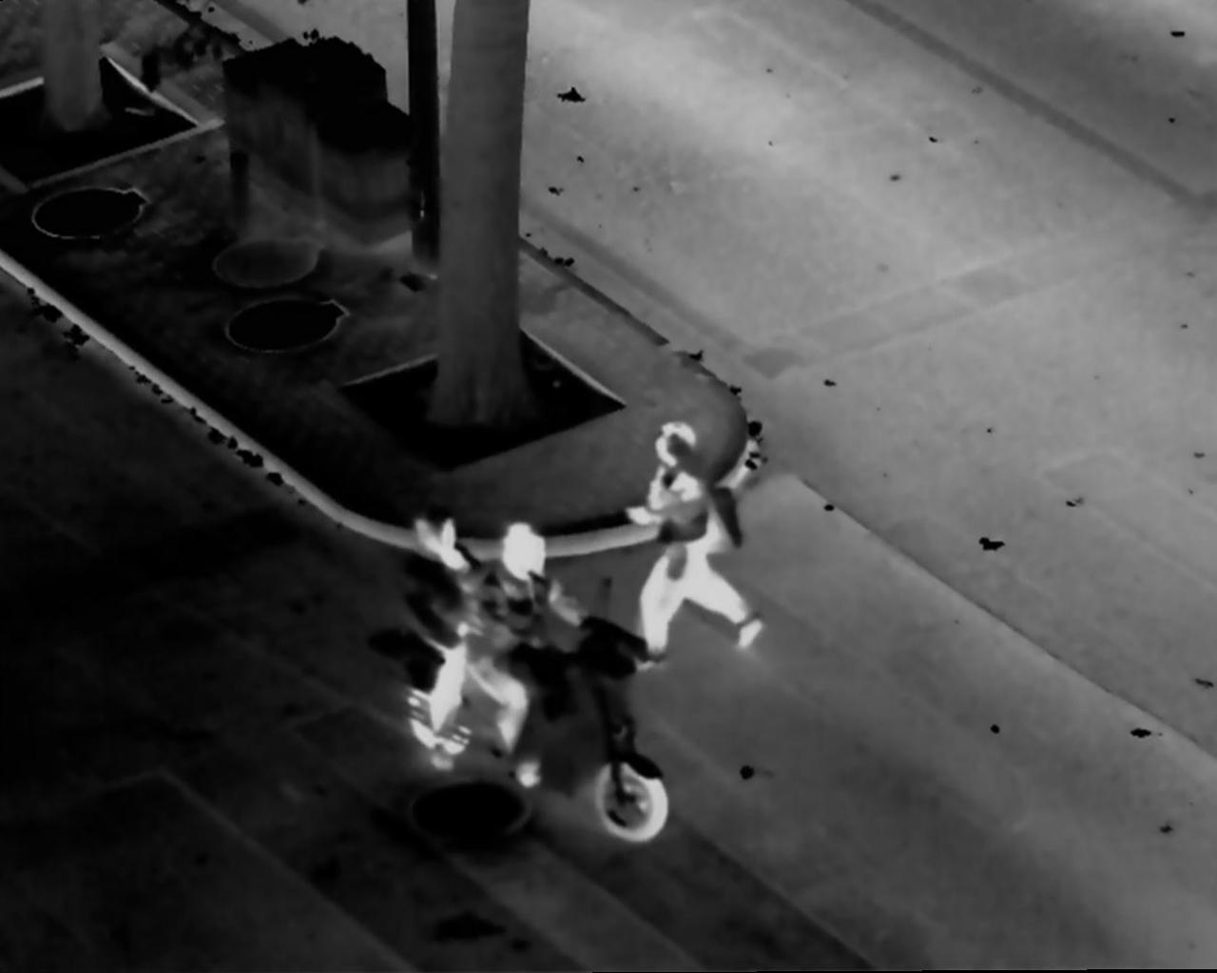person: (622, 417, 777, 671), (473, 516, 600, 775), (404, 513, 488, 772)
